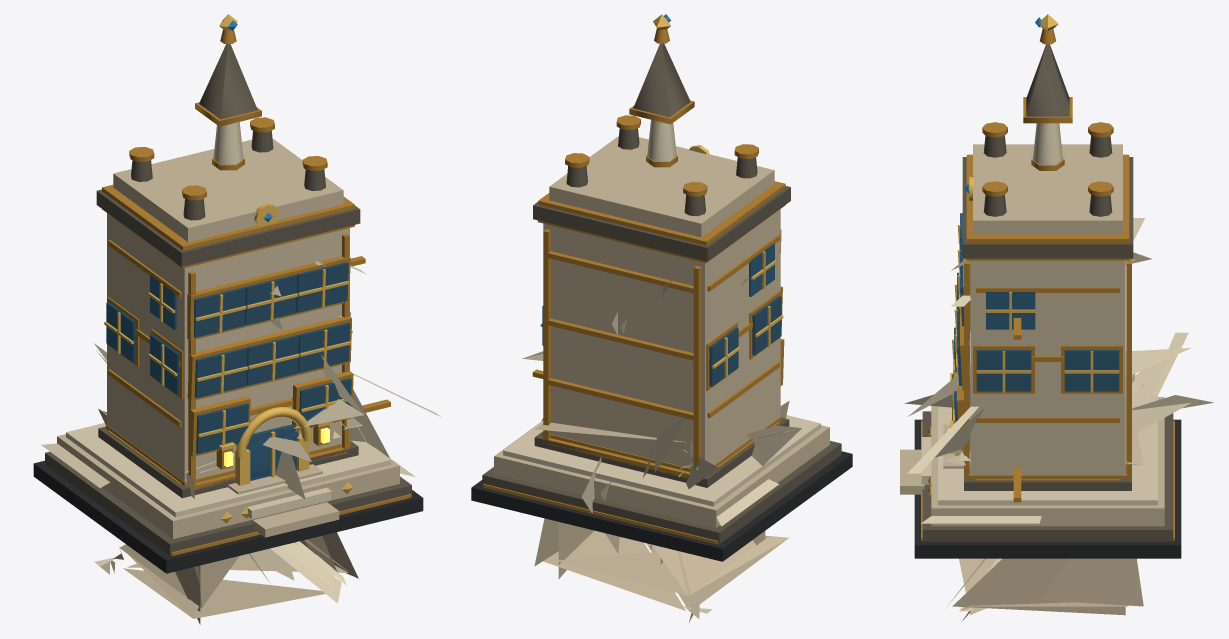
File: asset.glb
The picture shows the model from 3 angles, left to right: view 1: azimuth 30°, elevation 25°; view 2: azimuth 150°, elevation 25°; view 3: azimuth 270°, elevation 25°; orthographic projection. The views are drawn at different scales.
Parts seen in each view (by area): view 1: CentralWall, WindowGlass (×11), CrownPlinth, TaperedTowerShell, FoundationPlinth, MainPlinth, PlinthCap, LowerStep, CrownBase, WindowFrame (×5), RightWing_0, FourSidedSpire (+13 smaller); view 2: CentralWall, CrownPlinth, TaperedTowerShell, FoundationPlinth, MainPlinth, PlinthCap, LowerStep, HorizontalGoldBand (×4), CrownBase, LeftWing_0, VerticalGoldRib (×2), WindowGlass (×3) (+8 smaller); view 3: CentralWall, CrownPlinth, TaperedTowerShell, FoundationPlinth, WindowGlass (×3), LowerStep, PlinthCap, MainPlinth, CrownBase, LeftWing_0, RightWing_0, CrownGoldTrim (+10 smaller).
Part boxes in pixels (box(x1,y1,x2,y2)): CentralWall: box(107, 213, 349, 481); WindowGlass (×11): box(106, 262, 351, 453); CrownPlinth: box(113, 138, 343, 242); TaperedTowerShell: box(98, 409, 358, 624); FoundationPlinth: box(33, 460, 423, 573); MainPlinth: box(57, 434, 399, 538); PlinthCap: box(66, 423, 390, 517); LowerStep: box(45, 451, 411, 555); CrownBase: box(96, 189, 360, 266); WindowFrame (×5): box(187, 281, 353, 456); RightWing_0: box(263, 353, 441, 499); FourSidedSpire: box(199, 44, 257, 119); CentralWall: box(543, 209, 780, 468); CrownPlinth: box(549, 136, 774, 237); TaperedTowerShell: box(534, 400, 789, 611); FoundationPlinth: box(471, 451, 852, 561); MainPlinth: box(494, 420, 829, 527); PlinthCap: box(503, 415, 820, 506); LowerStep: box(482, 441, 841, 544); HorizontalGoldBand (×4): box(546, 251, 695, 478); CrownBase: box(533, 186, 790, 261); LeftWing_0: box(582, 416, 801, 564); VerticalGoldRib (×2): box(543, 229, 701, 468); WindowGlass (×3): box(709, 243, 781, 386); CentralWall: box(970, 260, 1125, 475); CrownPlinth: box(973, 144, 1122, 234); TaperedTowerShell: box(952, 378, 1143, 615); FoundationPlinth: box(914, 419, 1181, 558); WindowGlass (×3): box(976, 292, 1119, 391); LowerStep: box(922, 411, 1173, 541); PlinthCap: box(938, 395, 1157, 505); MainPlinth: box(931, 397, 1164, 526); CrownBase: box(962, 157, 1133, 258); LeftWing_0: box(1125, 332, 1213, 432); RightWing_0: box(904, 364, 1041, 523); CrownGoldTrim: box(966, 154, 1129, 242).
Size of the model in its own units: 6.48 by 12.28 by 6.44.
